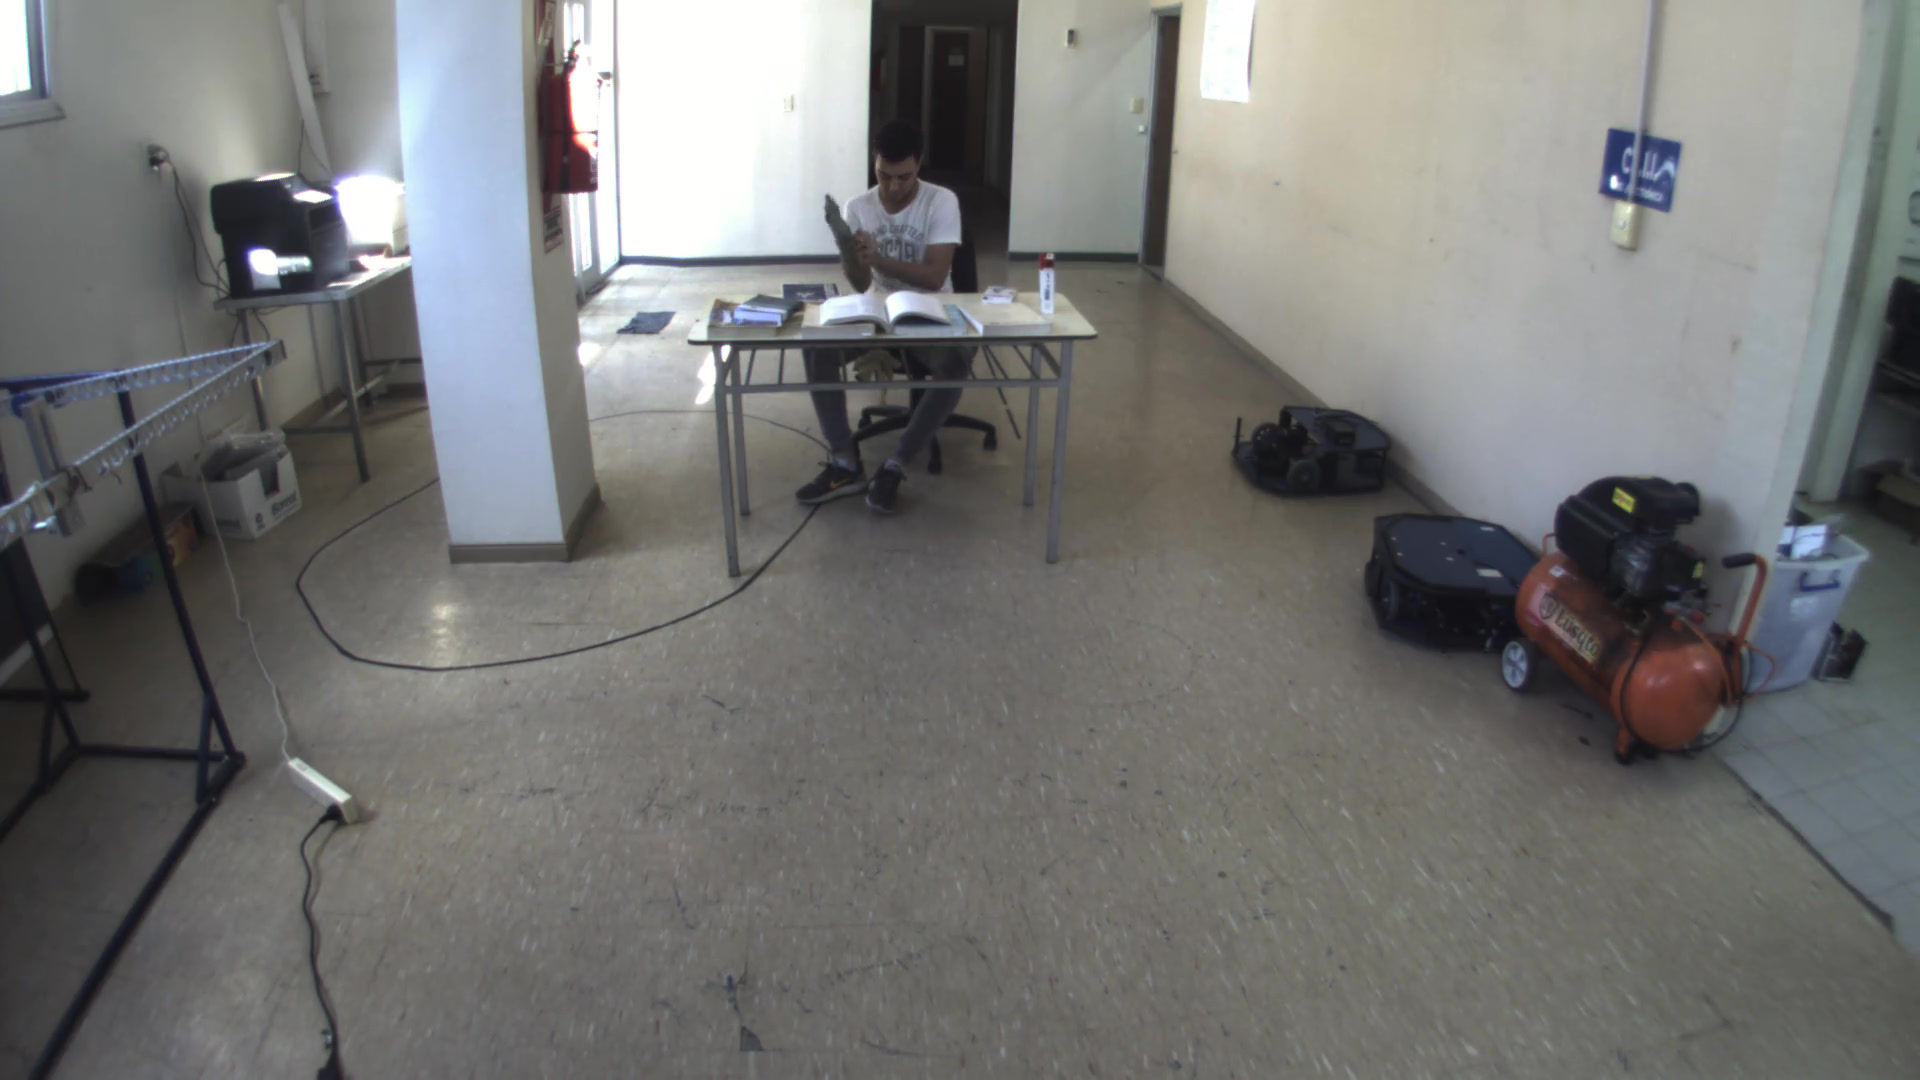hand: (824, 193, 851, 256), (851, 225, 881, 266)
